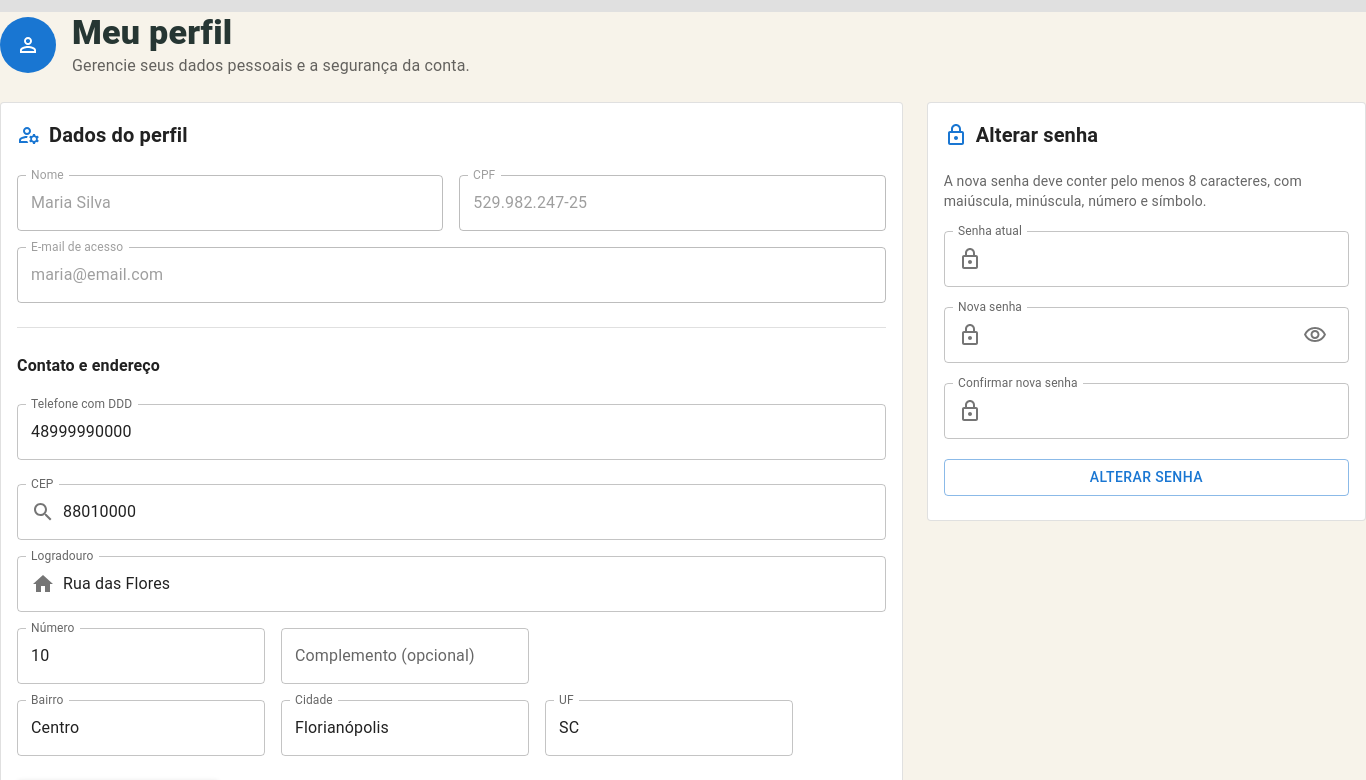
Test: exibe erro associado à senha atual
The width and height of the screenshot is (1366, 780).
Expected: the field showing "Maria Silva" is shown, top-left (17, 175), bottom-right (443, 231)
Type "Errada@123" into the password field labelled "Senha atual" at (1169, 259), box top-left (990, 231), bottom-right (1349, 287)
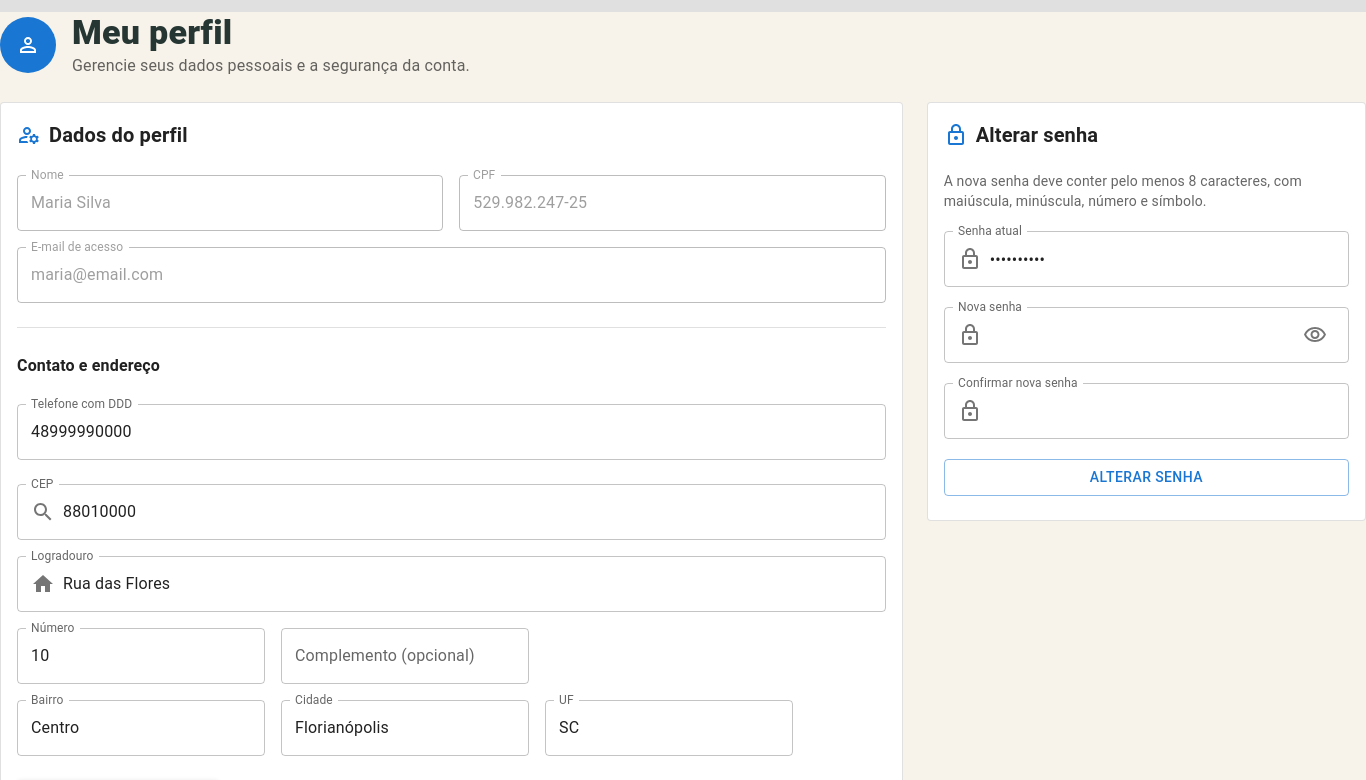
Type "Nova@1234" into the password field labelled "Nova senha" at (1138, 335), box top-left (990, 307), bottom-right (1287, 363)
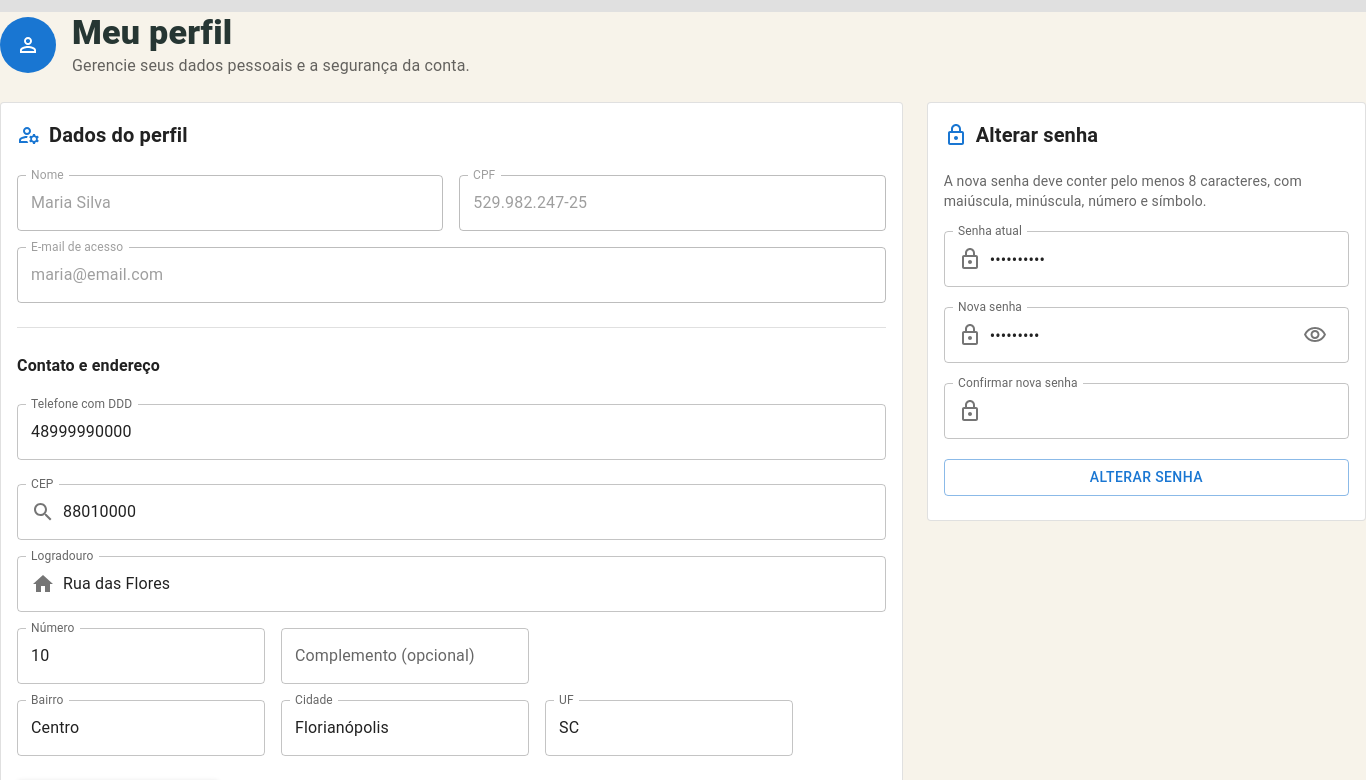
Type "Nova@1234" into the password field labelled "Confirmar nova senha" at (1169, 411), box top-left (990, 383), bottom-right (1349, 439)
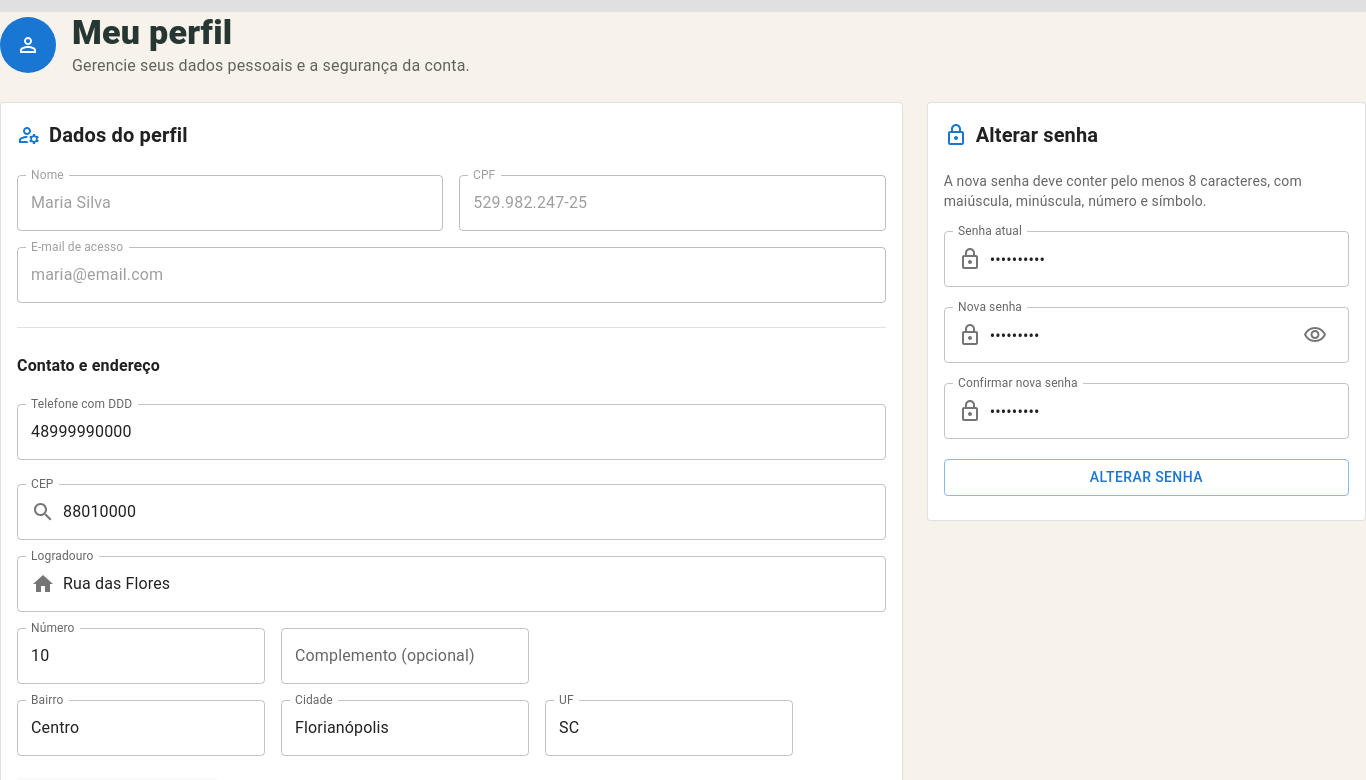
Click the button "Alterar senha" at (1146, 477), box top-left (944, 459), bottom-right (1349, 496)
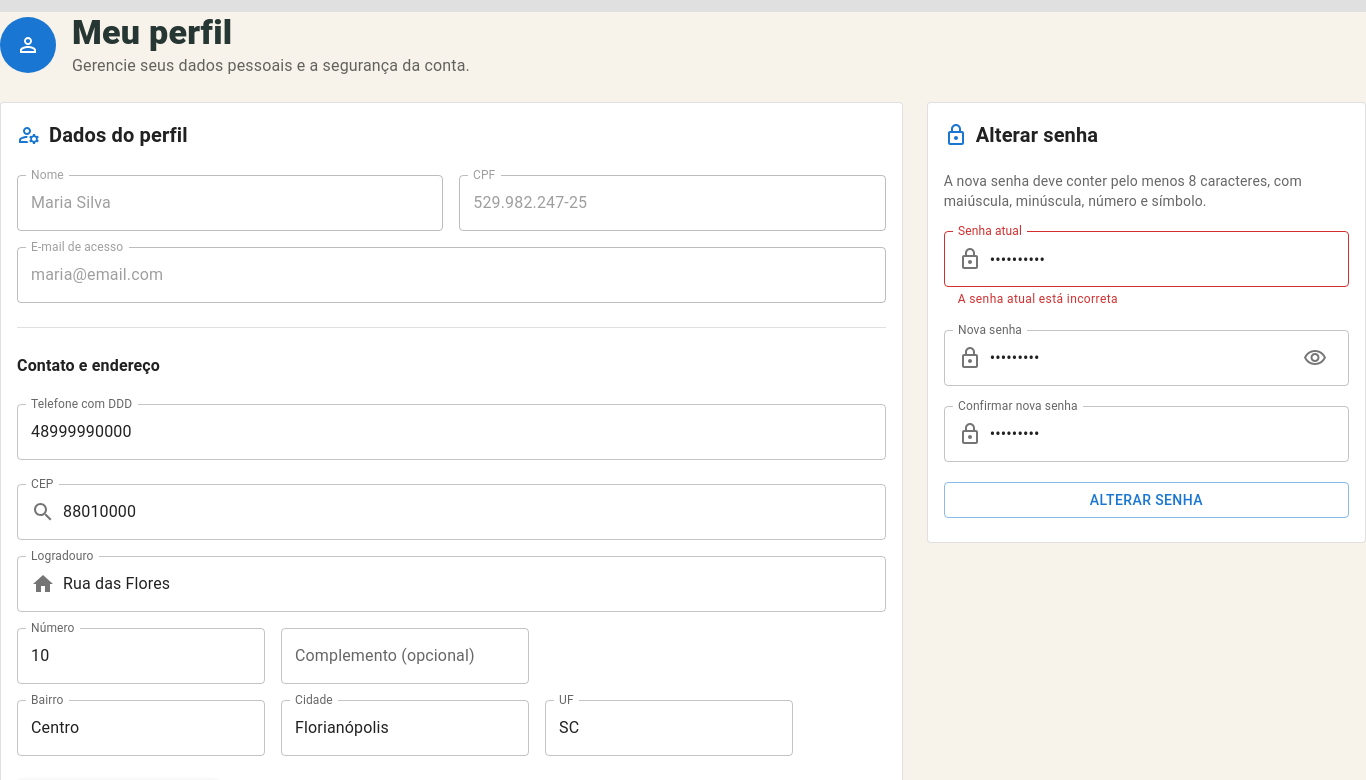
Result: the text "A senha atual está incorreta" is shown at top-left (958, 292), bottom-right (1118, 306)
